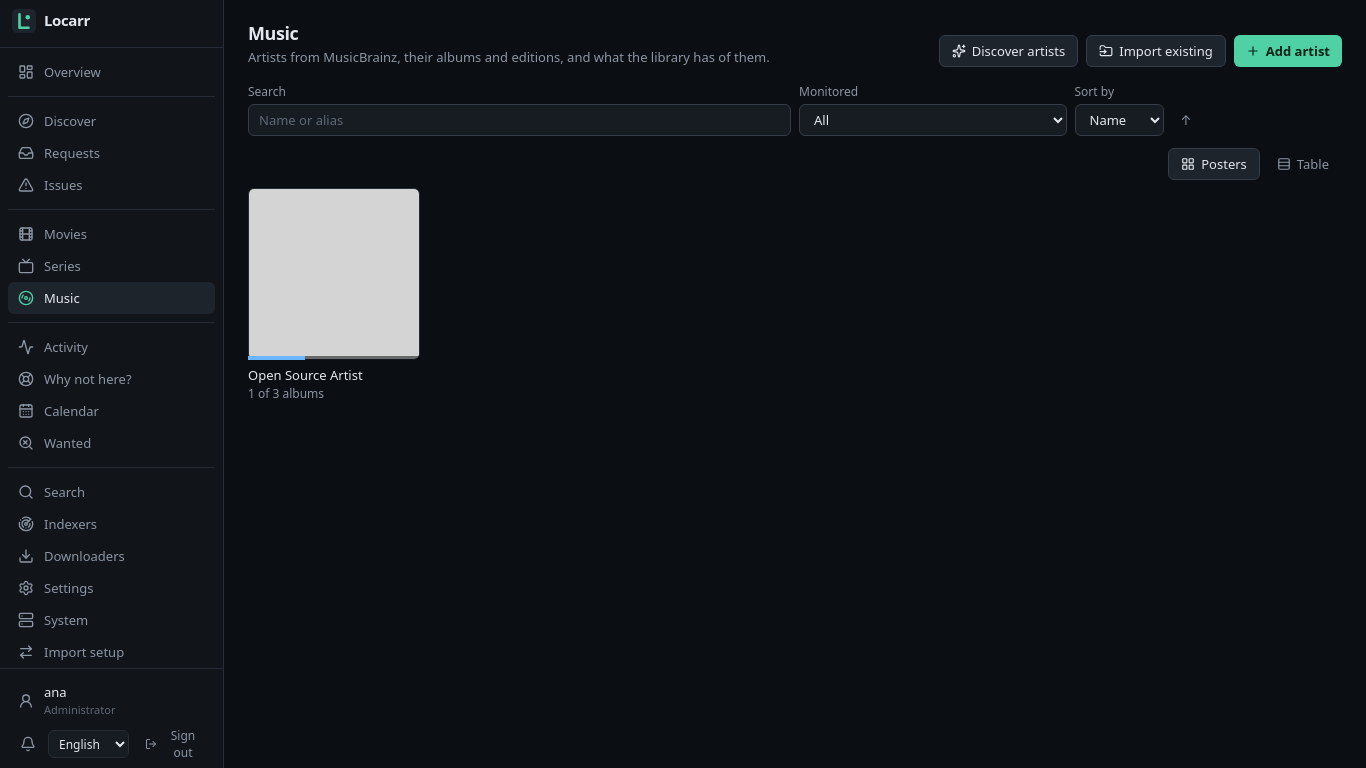
Scenario: music › lists artists as covers and switches to the table
Click the button "Table" at (1303, 164), box [1264, 148, 1342, 180]
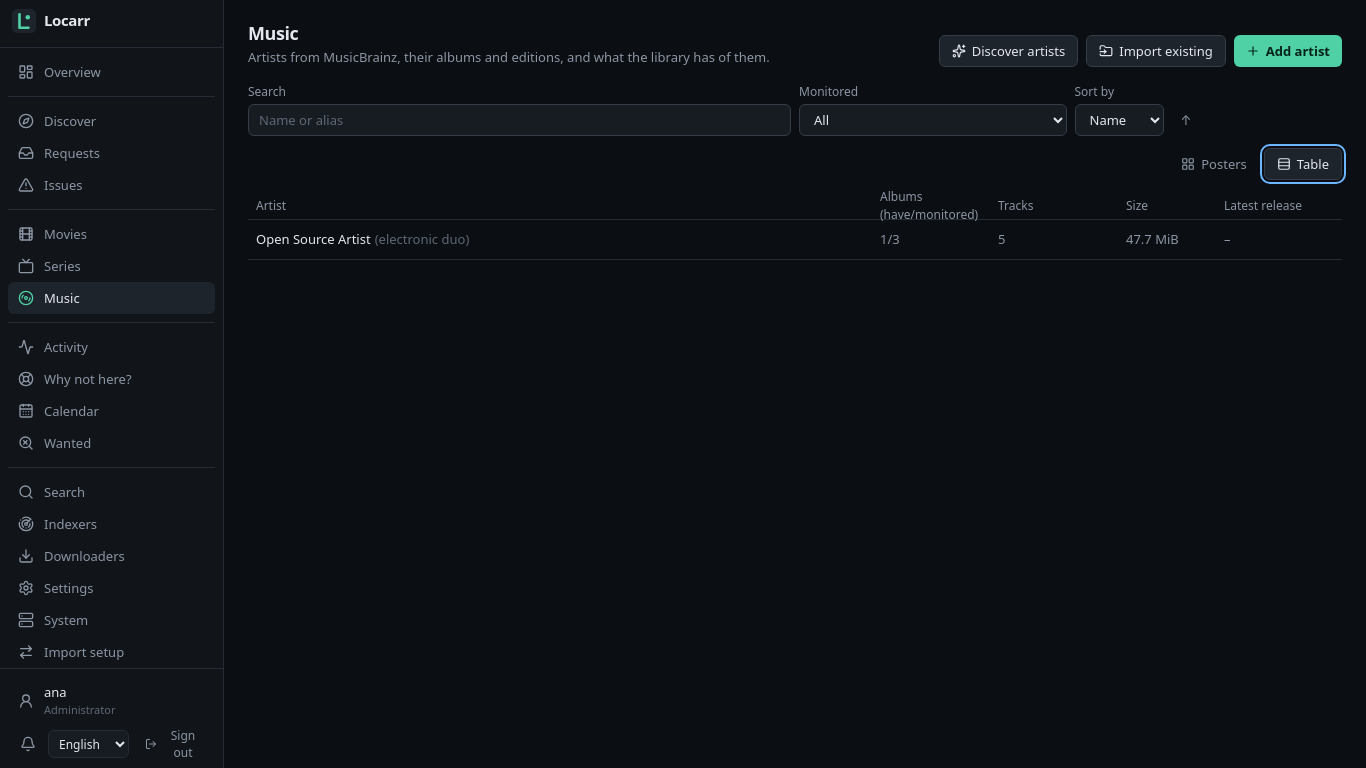
Check: the table shows "electronic duo", box [256, 230, 872, 249]
